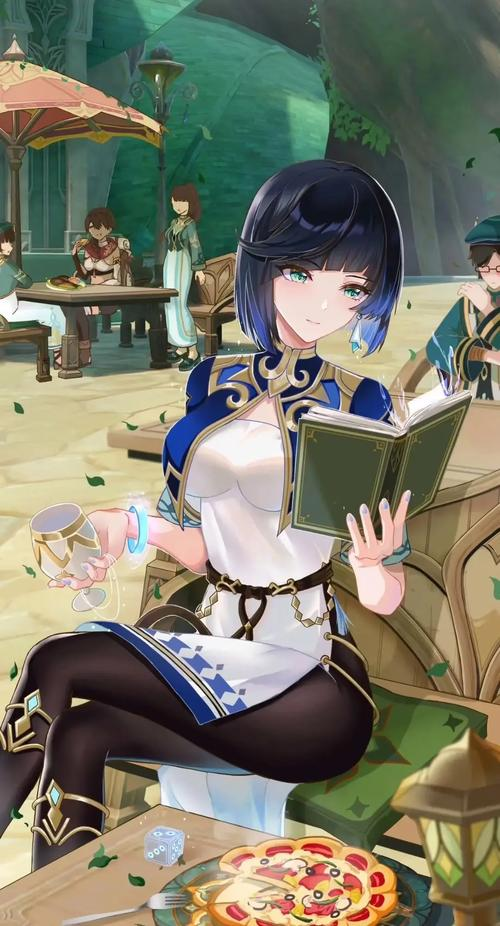夜兰: (1, 158, 472, 884)
